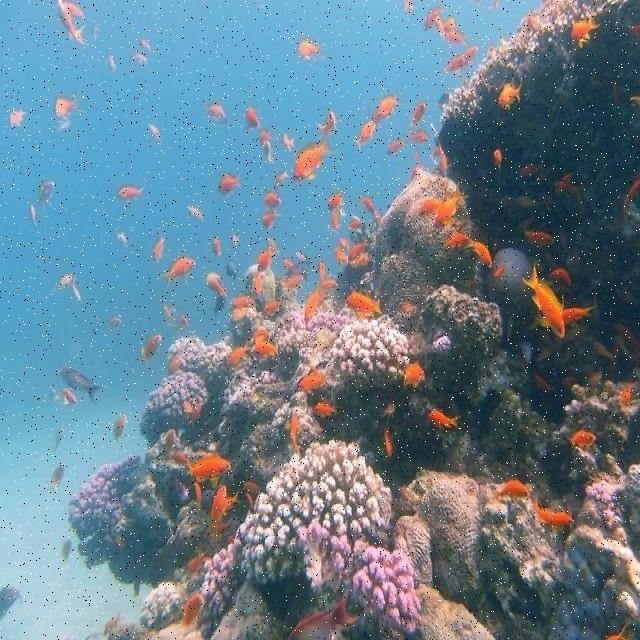fish: (523, 263, 601, 337), (287, 593, 362, 639), (294, 136, 338, 180), (307, 259, 338, 319), (61, 368, 102, 405), (56, 0, 88, 46), (435, 182, 469, 223), (159, 258, 197, 290), (30, 181, 55, 226), (535, 499, 576, 524), (190, 453, 231, 478), (211, 485, 228, 542), (285, 251, 311, 288), (335, 238, 369, 266), (444, 44, 477, 72), (344, 292, 382, 316), (436, 16, 467, 45), (56, 91, 86, 118), (140, 333, 162, 367), (353, 120, 376, 150), (258, 236, 278, 270), (185, 594, 205, 628), (315, 110, 340, 136), (468, 239, 492, 266), (573, 20, 601, 43), (290, 412, 304, 458), (360, 196, 382, 225), (45, 464, 66, 494), (205, 272, 227, 300), (153, 230, 170, 266), (253, 329, 278, 353), (377, 94, 401, 119), (497, 480, 530, 498), (429, 409, 458, 427), (570, 428, 597, 447), (403, 363, 426, 385), (499, 85, 523, 106), (54, 385, 79, 405), (299, 369, 326, 387), (258, 131, 273, 163), (409, 101, 427, 126), (423, 6, 444, 27), (205, 105, 229, 123), (230, 342, 251, 361), (297, 42, 323, 57), (118, 183, 144, 198), (262, 209, 282, 228), (527, 231, 556, 244), (113, 414, 126, 440), (448, 234, 472, 248), (219, 175, 240, 191), (327, 192, 345, 210), (622, 382, 635, 405), (247, 107, 261, 128), (315, 402, 337, 415), (551, 269, 570, 284), (233, 295, 258, 306), (332, 206, 343, 230), (384, 428, 393, 457), (421, 201, 440, 214), (264, 192, 283, 205), (494, 150, 503, 168), (494, 265, 505, 275)
reefs: (198, 438, 422, 639), (372, 167, 481, 327), (392, 467, 498, 611), (140, 334, 234, 438), (69, 454, 145, 565), (326, 314, 410, 393)
